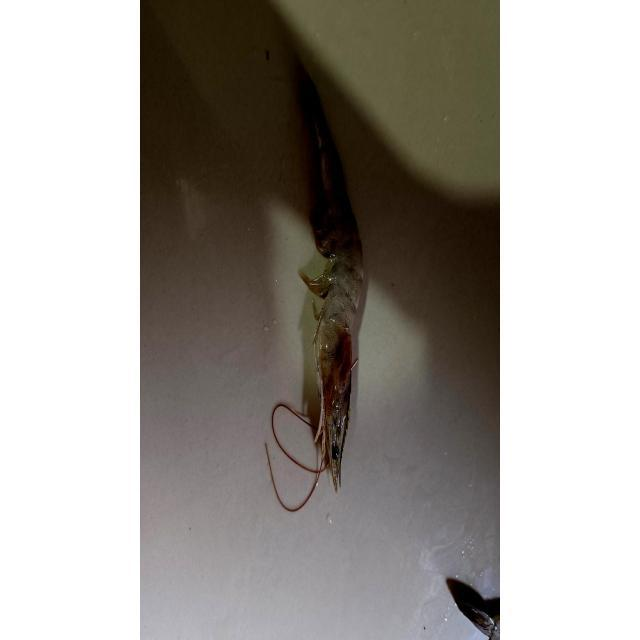shrimp: (300, 75, 363, 490), (454, 584, 500, 640)
